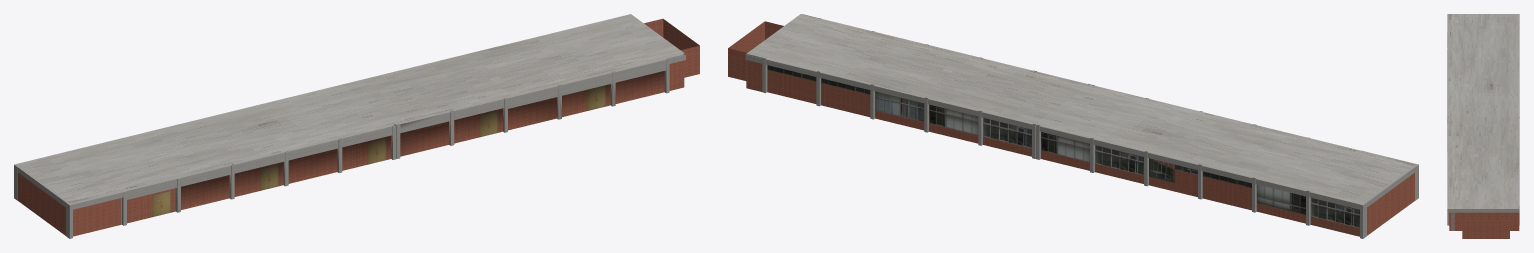
Rendered from pab4.fbx.
3 views of the same model, side by side, from view 1: azimuth 30°, elevation 25°; view 2: azimuth 150°, elevation 25°; view 3: azimuth 270°, elevation 25° (orthographic). The views are drawn at different scales.
Parts seen in each view (by area): view 1: Right, Left; view 2: Right, Left; view 3: Right, Left.
Boxes of the visible parts, x1,y1,x2,y2 form: Right: [14, 14, 684, 237]; Left: [15, 18, 699, 238]; Right: [745, 14, 1416, 238]; Left: [728, 14, 1418, 236]; Right: [1448, 14, 1519, 230]; Left: [1447, 14, 1517, 238].
Bounding box in the file's own units: 6433 × 341 × 968.
